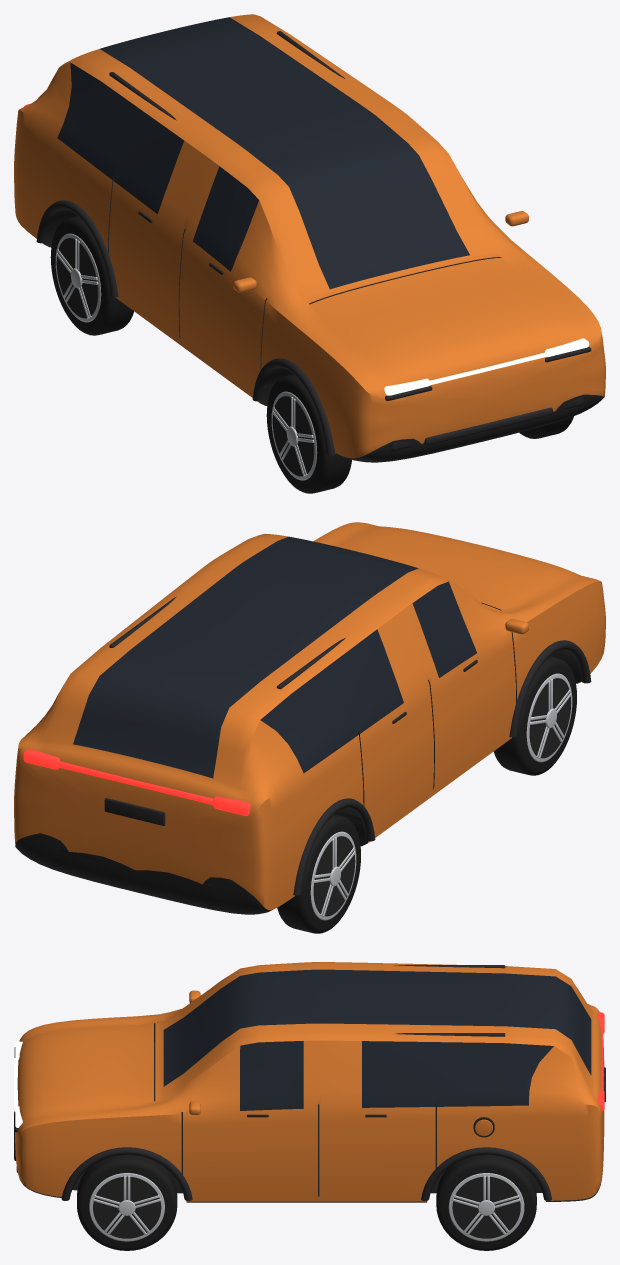
The model's file is suv.glb.
The picture shows the model from 3 angles, top to bottom: view 1: azimuth 30°, elevation 25°; view 2: azimuth 150°, elevation 25°; view 3: azimuth 270°, elevation 25°; orthographic projection. The views are drawn at different scales.
Visible parts, largest first — view 1: suv; view 2: suv; view 3: suv.
Boxes of the visible parts, box(x1,y1,x2,y2) form: suv: box(14, 14, 605, 493); suv: box(14, 522, 605, 933); suv: box(14, 962, 605, 1250).
Size of the model in its own units: 2.23 by 1.81 by 4.71.
